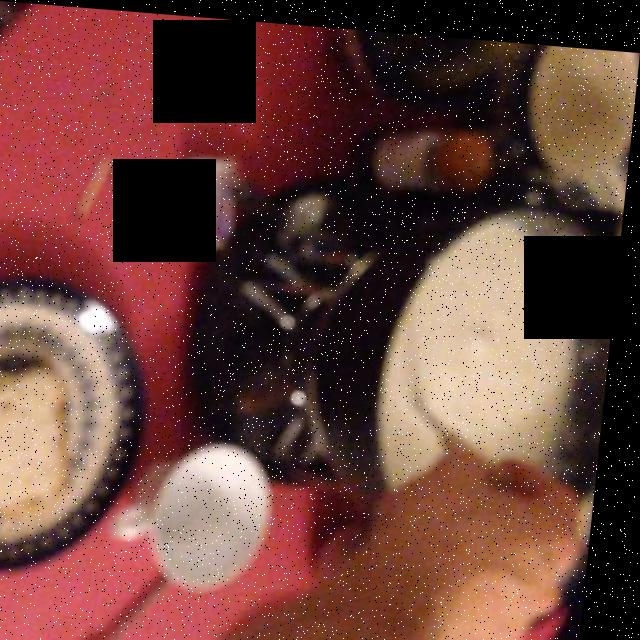bread: (0, 357, 90, 520)
fondue: (389, 210, 577, 472)
